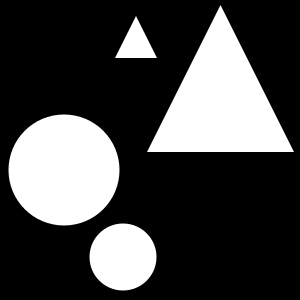rectangle: (9, 114, 120, 226), (90, 224, 156, 290)
triangle: (147, 5, 294, 152), (115, 16, 157, 58)
